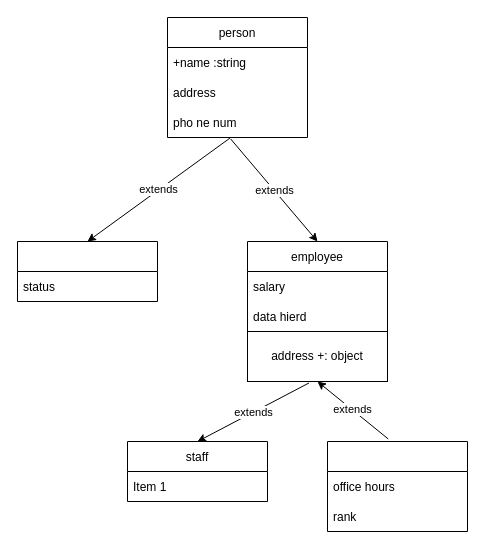
Some shapes in this 485 by 549 pixel diagram are drawn without their labels. Here are the shapes that lost their labels. From the top down, the box of each, then its label:
(16, 240, 158, 302): student
(326, 440, 468, 532): faculty
